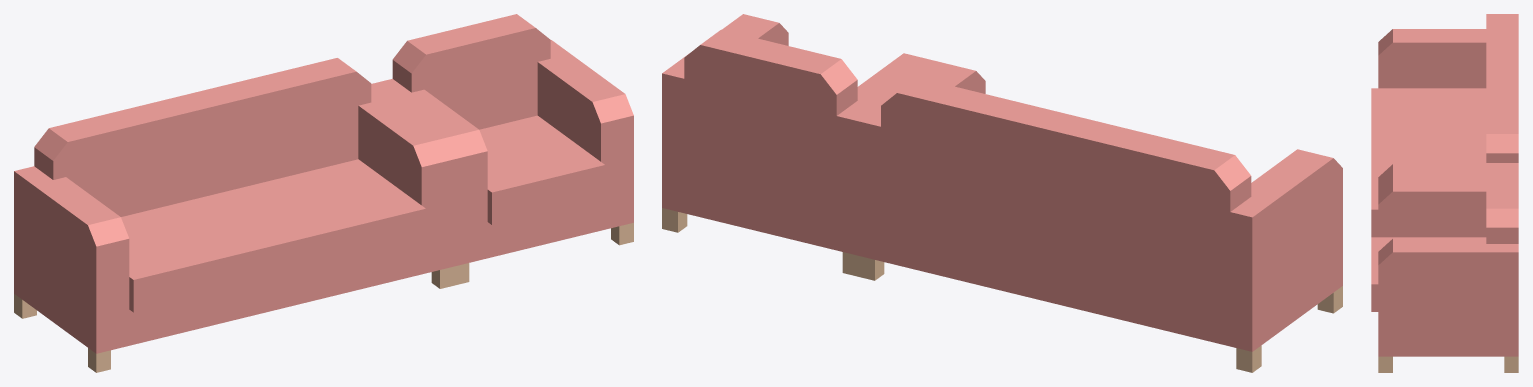
The model's file is sofa_long3.glb.
The picture shows the model from 3 angles, left to right: view 1: azimuth 30°, elevation 25°; view 2: azimuth 150°, elevation 25°; view 3: azimuth 270°, elevation 25°; orthographic projection. The views are drawn at different scales.
Parts seen in each view (by area): view 1: loungeSofa(Clone), loungeChair(Clone); view 2: loungeSofa(Clone), loungeChair(Clone); view 3: loungeChair(Clone), loungeSofa(Clone).
Boxes of the visible parts, x1=… form: loungeSofa(Clone): x1=14, y1=58, x2=454, y2=372; loungeChair(Clone): x1=373, y1=14, x2=633, y2=285; loungeSofa(Clone): x1=859, y1=62, x2=1342, y2=372; loungeChair(Clone): x1=662, y1=14, x2=939, y2=276; loungeChair(Clone): x1=1371, y1=163, x2=1518, y2=372; loungeSofa(Clone): x1=1371, y1=14, x2=1518, y2=237.
Size of the model in its own units: 3.01 by 0.943 by 0.8405.
